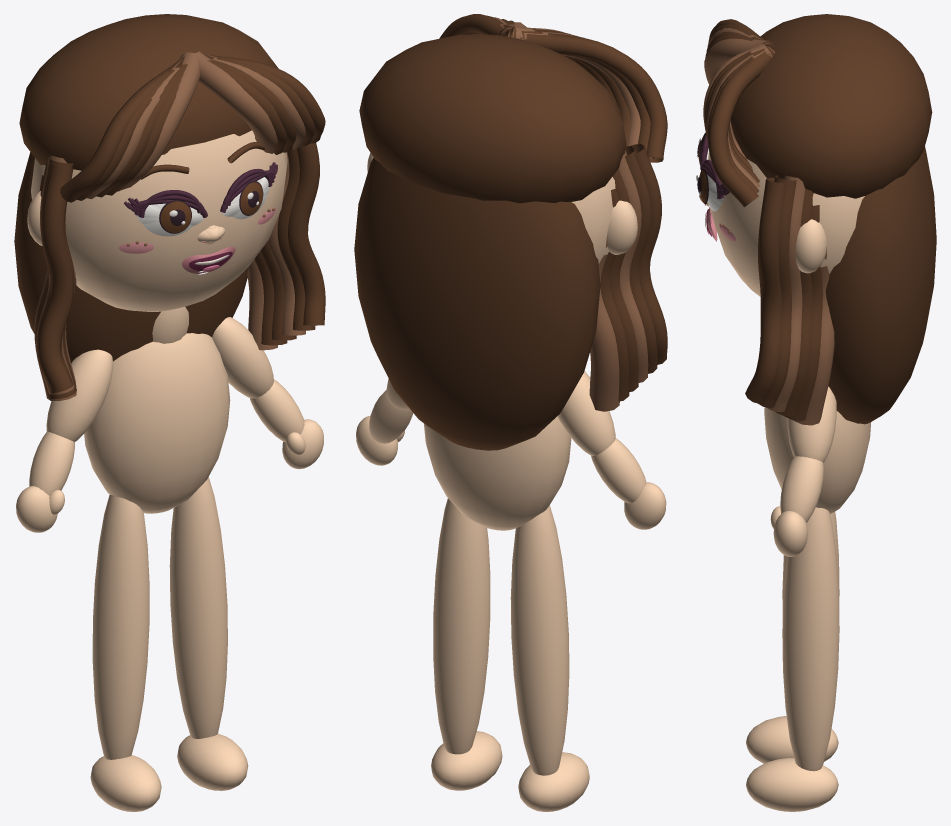
File: lulu-3d.glb
The picture shows the model from 3 angles, left to right: view 1: azimuth 30°, elevation 25°; view 2: azimuth 150°, elevation 25°; view 3: azimuth 270°, elevation 25°; orthographic projection.
Parts seen in each view (by area): view 1: Head, Crown, Torso, Leg, Leg.001, Back volume, Long wave.005, Long wave.011, Upper arm, Foot, Foot.001, Upper arm.001 (+26 smaller); view 2: Back volume, Crown, Leg, Leg.001, Torso, Swept fringe.005, Foot, Foot.001, Long wave, Long wave.005, Upper arm, Long wave.004 (+13 smaller); view 3: Crown, Back volume, Leg.001, Head, Long wave.011, Torso, Foot.001, Swept fringe.011, Long wave.010, Long wave.009, Forearm.001, Upper arm.001 (+12 smaller).
Boxes of the visible parts, x1,y1,x2,y2 form: Head: (31, 130, 287, 311); Crown: (19, 14, 278, 170); Torso: (84, 333, 230, 513); Leg: (92, 494, 149, 759); Leg.001: (169, 477, 227, 738); Back volume: (14, 152, 248, 362); Long wave.005: (37, 163, 73, 390); Long wave.011: (288, 143, 325, 325); Upper arm: (46, 349, 113, 441); Foot: (90, 755, 161, 811); Foot.001: (177, 733, 248, 790); Upper arm.001: (212, 317, 273, 398); Back volume: (354, 158, 600, 450); Crown: (359, 34, 626, 203); Leg: (510, 505, 569, 775); Leg.001: (433, 498, 490, 754); Torso: (424, 416, 571, 530); Swept fringe.005: (511, 32, 667, 162); Foot: (518, 752, 589, 811); Foot.001: (431, 731, 502, 790); Long wave: (589, 235, 619, 411); Long wave.005: (627, 144, 667, 364); Upper arm: (557, 371, 615, 455); Long wave.004: (625, 146, 657, 373); Crown: (730, 14, 932, 198); Back volume: (825, 146, 936, 424); Leg.001: (782, 507, 839, 771); Head: (708, 151, 864, 296); Long wave.011: (745, 177, 786, 403); Torso: (764, 407, 870, 513); Foot.001: (746, 758, 838, 811); Swept fringe.011: (708, 53, 770, 207); Long wave.010: (758, 175, 796, 408); Long wave.009: (766, 175, 805, 412); Forearm.001: (780, 456, 823, 522); Upper arm.001: (787, 386, 836, 462).
Size of the model in its own units: 1.24 by 2.94 by 0.8491.
